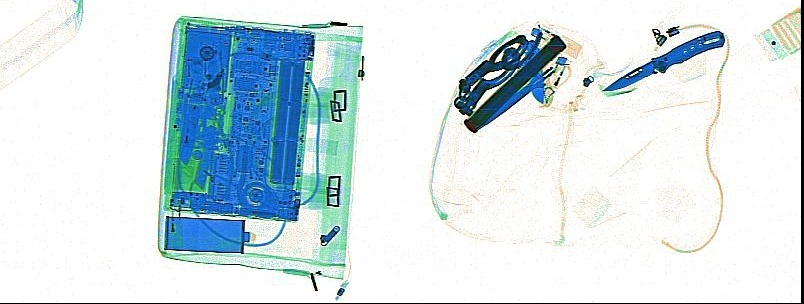handcuffs: (452, 28, 544, 118)
knife: (600, 29, 726, 92), (519, 36, 554, 106)
lighter: (528, 20, 584, 58), (544, 56, 568, 96)
scissors: (476, 50, 573, 126)
zippooil: (163, 214, 252, 254)
